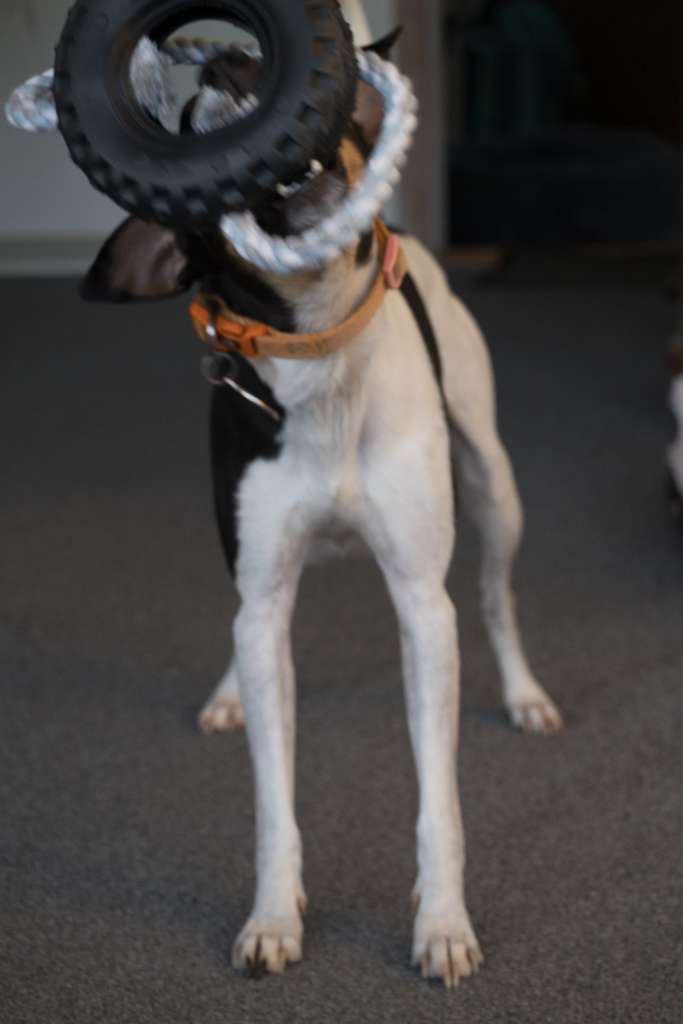Dog: (67, 21, 565, 998)
